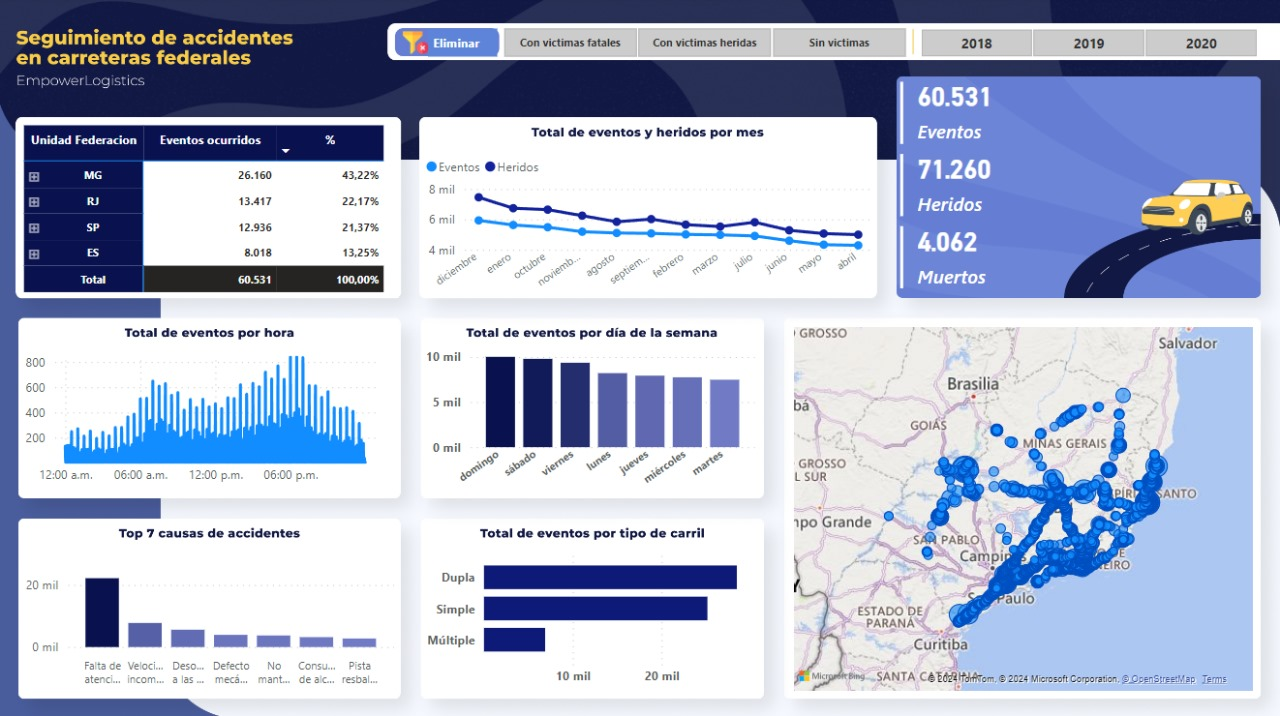

The page's visual inventory and layout, read from the dashboard file:
{"tool":"powerbi","page":{"name":"Informe","canvas":[1280,720],"ordinal":0},"visuals":[{"type":"cardVisual","fields":{"Data":["registro_acidente.total_eventos","registro_acidente.total_heridos","Sum(registro_acidente.Muertos)"]},"box":[896,80,277.3,218.7],"z":0},{"type":"map","fields":{"Y":["registro_acidente.latitude"],"X":["registro_acidente.longitude"],"Size":["registro_acidente.total_eventos"]},"box":[790.4,323.8,466.6,371.9],"z":1000},{"type":"clusteredColumnChart","fields":{"Y":["registro_acidente.total_eventos"],"Category":["registro_acidente.causa_accidente"]},"box":[23.8,541.4,377.6,153.8],"z":2000},{"type":"pivotTable","fields":{"Rows":["registro_acidente.uf","Calendario.Estación","Calendario.Dia","registro_acidente.Hora"],"Values":["registro_acidente.total_eventos","Divide(registro_acidente.total_eventos, ScopedEval(registro_acidente.total_eventos, []))"]},"box":[22.4,122.6,378.4,176.5],"z":3000},{"type":"lineChart","fields":{"Y":["registro_acidente.total_eventos","registro_acidente.total_heridos"],"Category":["Calendario.Mes"]},"box":[423.3,149.6,454.7,149.6],"z":4000},{"type":"areaChart","fields":{"Y":["registro_acidente.total_eventos"],"Category":["registro_acidente.Hora"]},"box":[23.9,345.5,376.9,149.6],"z":5000},{"type":"columnChart","fields":{"Y":["registro_acidente.total_eventos"],"Category":["Calendario.Dia"]},"box":[423.3,345.5,338,151.1],"z":6000},{"type":"clusteredBarChart","fields":{"Y":["registro_acidente.total_eventos"],"Category":["registro_acidente.tipo_pista"]},"box":[423,541,338,154],"z":7000},{"type":"slicer","fields":{"Values":["Calendario.Año"]},"box":[896.4,25,383.8,40],"z":8000},{"type":"slicer","fields":{"Values":["registro_acidente.Victimas"]},"box":[480.1,23.9,450.2,41.9],"z":9000},{"type":"image","box":[401,25.2,35.2,40],"z":10000},{"type":"textbox","box":[431.1,31.1,63.3,27.8],"z":11000},{"type":"actionButton","box":[396.3,31.5,108.5,27.4],"z":12000}]}

Visuals, with their boxes in screenshot pixels (x1, y1, x2, y2), scaled from the page's 1280x720 canvas onto the 1280x716 screenshot:
cardVisual - registro_acidente.total_eventos x registro_acidente.total_heridos: 896, 80, 1173, 297
map - registro_acidente.latitude x registro_acidente.longitude: 790, 322, 1257, 692
clusteredColumnChart - registro_acidente.total_eventos x registro_acidente.causa_accidente: 24, 538, 401, 691
pivotTable - registro_acidente.uf x Calendario.Estación: 22, 122, 401, 297
lineChart - registro_acidente.total_eventos x registro_acidente.total_heridos: 423, 149, 878, 298
areaChart - registro_acidente.total_eventos x registro_acidente.Hora: 24, 344, 401, 492
columnChart - registro_acidente.total_eventos x Calendario.Dia: 423, 344, 761, 494
clusteredBarChart - registro_acidente.total_eventos x registro_acidente.tipo_pista: 423, 538, 761, 691
slicer - Calendario.Año: 896, 25, 1279, 65
slicer - registro_acidente.Victimas: 480, 24, 930, 65
image: 401, 25, 436, 65
textbox: 431, 31, 494, 59
actionButton: 396, 31, 505, 59
